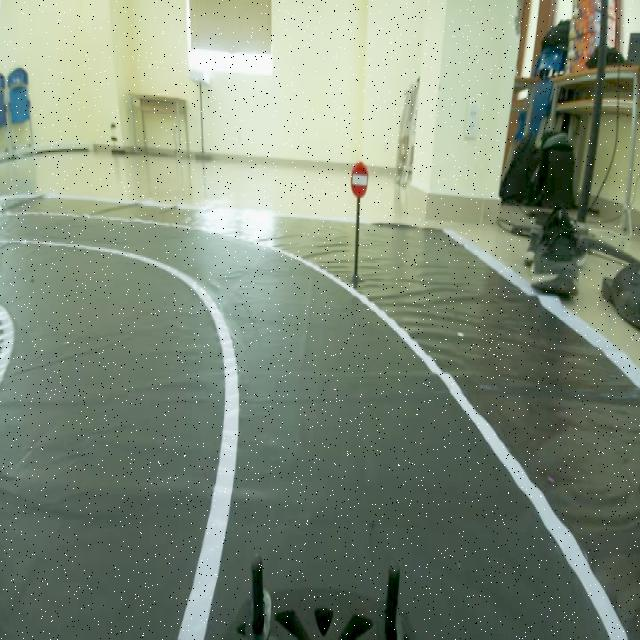no_entry: (341, 161, 378, 200)
